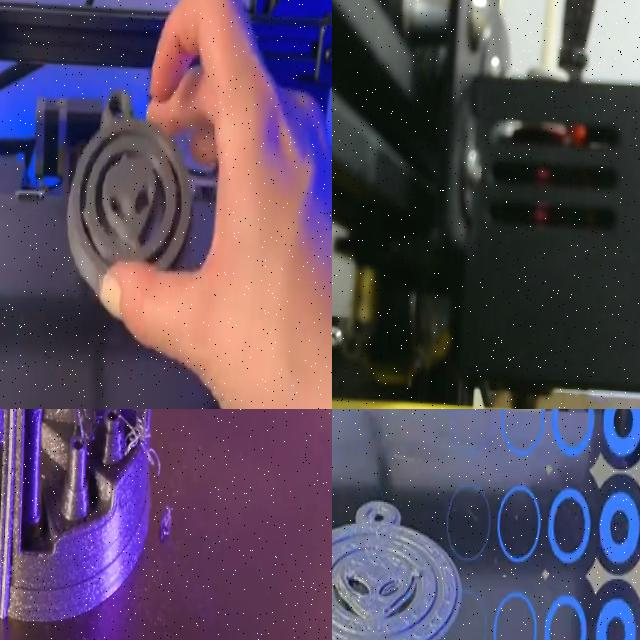spaghetti: (124, 409, 166, 475), (154, 503, 180, 545)
